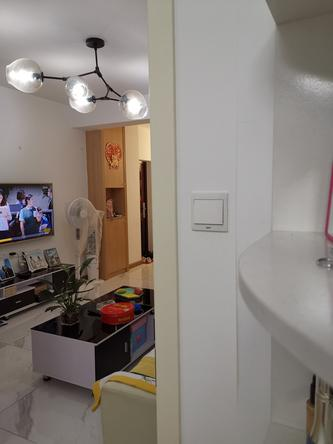switch: (186, 197, 226, 233)
